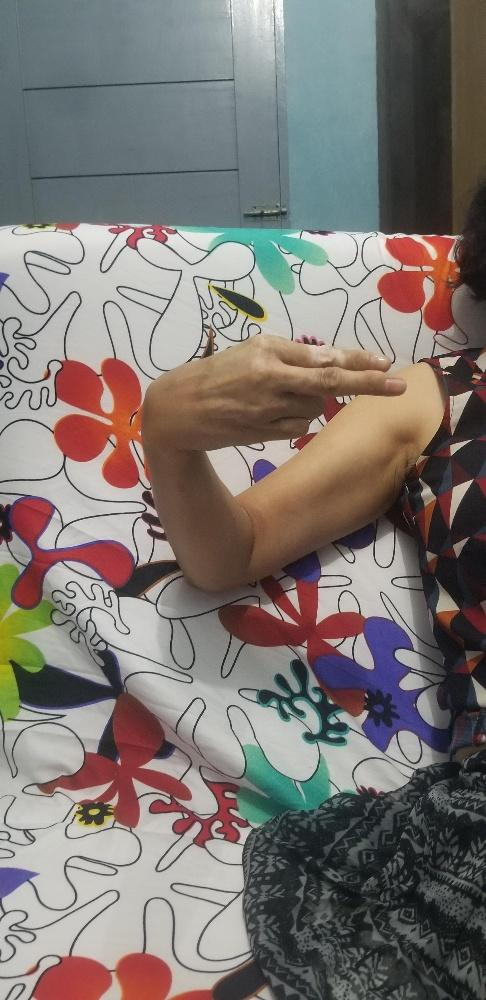h: (137, 332, 408, 444)
